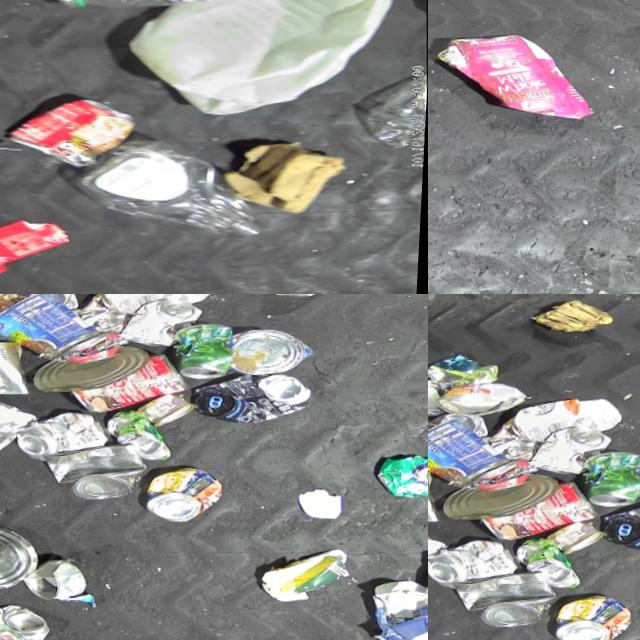can: (9, 88, 144, 171), (69, 345, 193, 416), (478, 473, 602, 544), (194, 363, 316, 426), (0, 294, 105, 365), (44, 436, 153, 503), (453, 564, 562, 631), (428, 414, 514, 493), (33, 339, 152, 396), (442, 467, 561, 524), (17, 406, 114, 463), (428, 533, 522, 591), (146, 461, 230, 523), (119, 294, 206, 349), (528, 422, 615, 477), (232, 320, 317, 375), (555, 589, 638, 640), (173, 319, 238, 380), (434, 378, 529, 419), (108, 407, 176, 461), (517, 535, 585, 589), (0, 516, 46, 595), (582, 447, 640, 507), (25, 554, 91, 602), (378, 444, 428, 496), (138, 388, 199, 428), (547, 516, 608, 556), (0, 598, 58, 640), (602, 491, 640, 553), (0, 336, 36, 398), (430, 410, 491, 439), (20, 294, 81, 310), (428, 377, 447, 418)
milk_jug: (123, 0, 404, 122)
